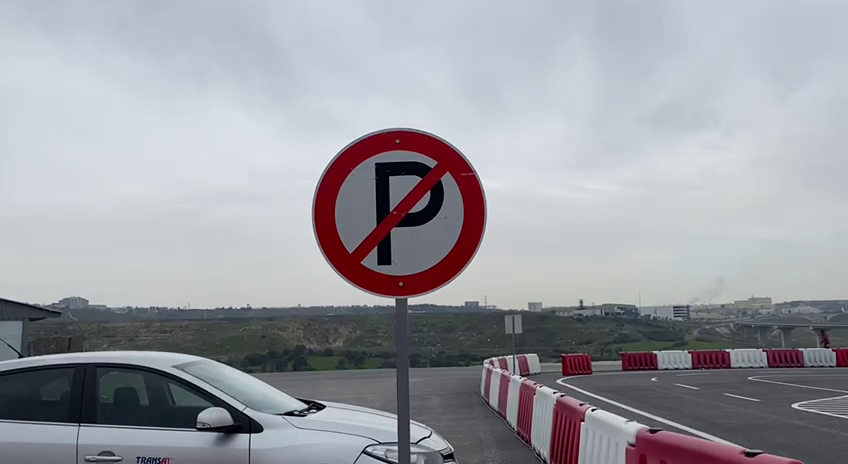noparking: (305, 120, 495, 305)
